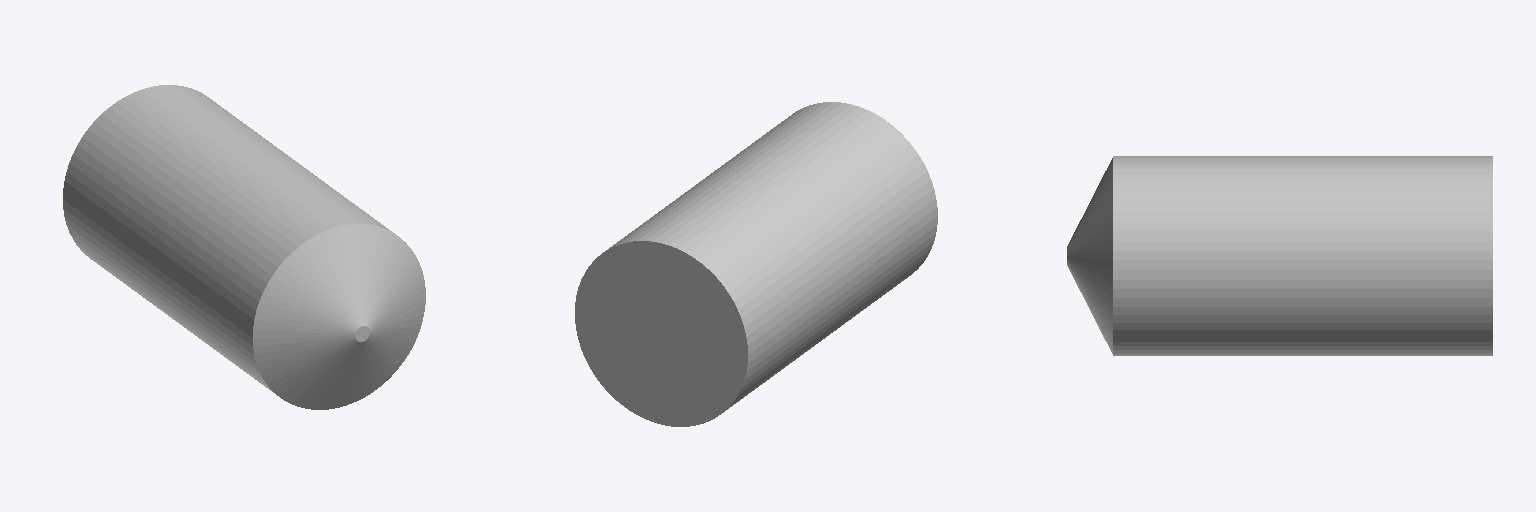
Rendered from Candle3.obj.
3 renders of one model, left to right at view 1: azimuth 30°, elevation 25°; view 2: azimuth 150°, elevation 25°; view 3: azimuth 270°, elevation 25°, orthographic.
Parts seen in each view (by area): view 1: Candle3_Cylinder.001; view 2: Candle3_Cylinder.001; view 3: Candle3_Cylinder.001.
Boxes of the visible parts, x1=… form: Candle3_Cylinder.001: x1=63, y1=85, x2=425, y2=409; Candle3_Cylinder.001: x1=575, y1=102, x2=937, y2=426; Candle3_Cylinder.001: x1=1067, y1=156, x2=1492, y2=355.
Bounding box in the file's own units: 0.1362 × 0.1362 × 0.2901.